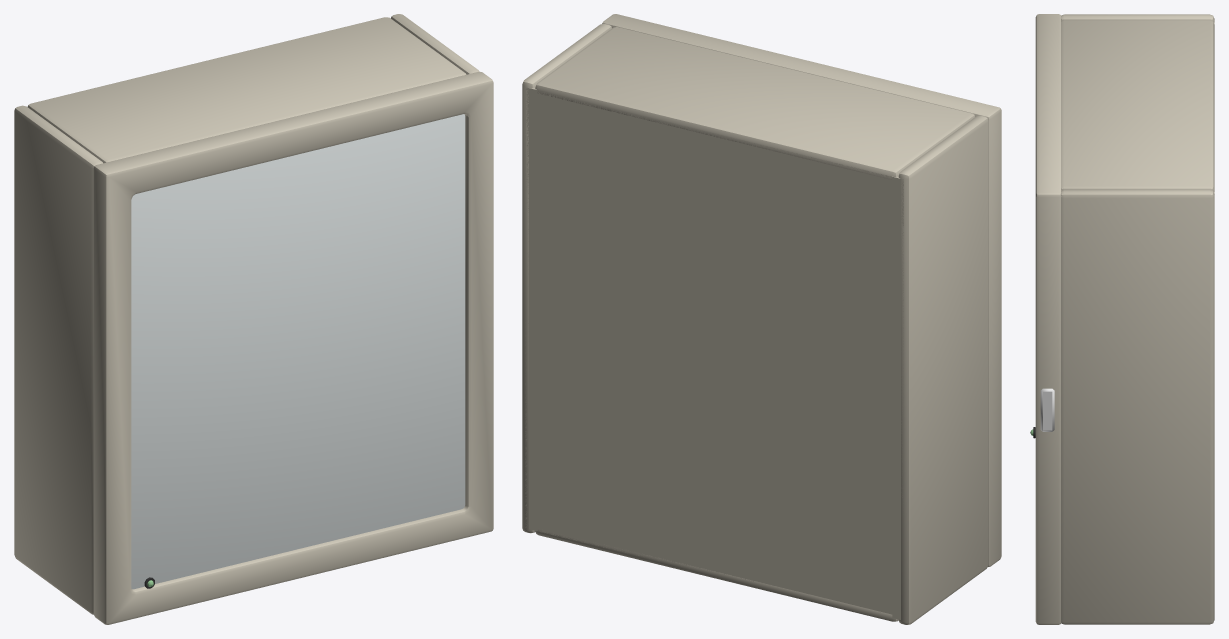
The model's file is Kit_ChartRecorder.fbx.
3 renders of one model, left to right at view 1: azimuth 30°, elevation 25°; view 2: azimuth 150°, elevation 25°; view 3: azimuth 270°, elevation 25°, orthographic. The views are drawn at different scales.
Visible parts, largest first — view 1: Kit_ChartRecorder_LOD0; view 2: Kit_ChartRecorder_LOD0; view 3: Kit_ChartRecorder_LOD0.
Part boxes in pixels (x1,y1,x2,y2): Kit_ChartRecorder_LOD0: [14, 14, 493, 624]; Kit_ChartRecorder_LOD0: [522, 14, 1001, 624]; Kit_ChartRecorder_LOD0: [1030, 14, 1214, 624].
Size of what is drawn, in the model's own units: 0.362 by 0.4 by 0.1545.
